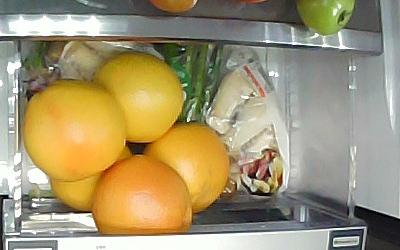grapefruit: (21, 77, 127, 181), (91, 51, 184, 143), (90, 153, 193, 234), (141, 121, 230, 213), (48, 143, 133, 211)
